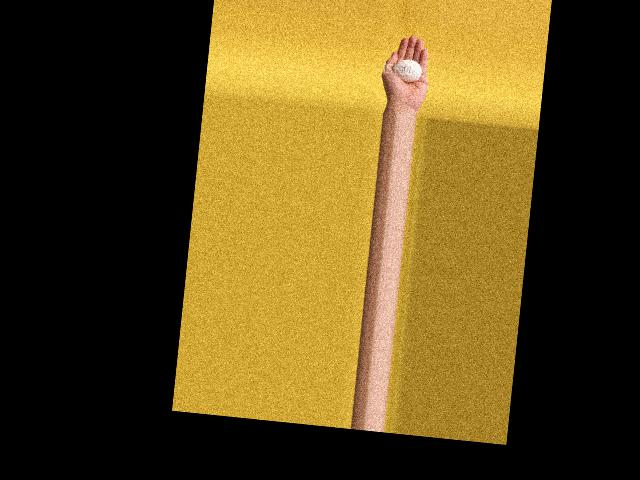egg: (392, 58, 423, 82)
